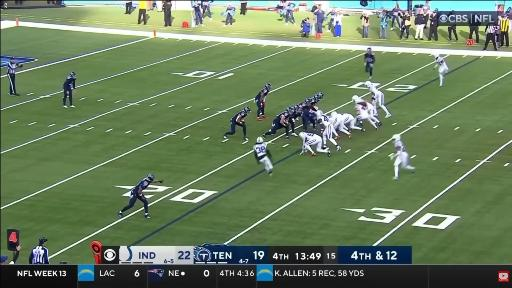Helmet: (286, 106, 295, 114), (392, 134, 401, 141), (294, 104, 301, 111), (147, 174, 154, 181), (314, 95, 321, 102), (352, 95, 359, 102), (304, 98, 311, 105), (316, 92, 323, 99), (316, 110, 322, 118), (317, 92, 324, 98), (256, 137, 263, 143), (265, 83, 271, 90), (331, 111, 338, 117), (365, 81, 371, 87), (70, 72, 76, 78), (366, 47, 372, 53), (244, 107, 250, 113), (299, 132, 306, 137), (299, 102, 306, 107), (316, 110, 323, 115), (310, 97, 316, 102), (434, 54, 439, 58)
Jersey: (131, 178, 151, 197), (369, 85, 383, 104), (303, 133, 321, 145), (255, 88, 269, 102), (436, 57, 448, 73), (254, 143, 266, 159), (231, 110, 247, 122), (274, 111, 289, 123), (356, 103, 368, 117), (317, 114, 331, 126), (337, 114, 353, 124), (63, 76, 75, 89), (395, 140, 405, 153), (436, 57, 447, 68), (365, 52, 375, 63), (356, 103, 367, 112), (290, 111, 301, 119)
Player: (118, 174, 162, 218), (262, 107, 294, 140), (391, 135, 414, 179), (317, 110, 341, 151), (365, 81, 391, 118), (353, 96, 381, 129), (331, 112, 364, 138), (224, 107, 250, 140), (254, 137, 273, 175), (300, 132, 330, 156), (255, 83, 271, 120), (302, 98, 317, 131), (63, 72, 76, 108), (434, 55, 448, 86), (289, 104, 302, 136), (364, 48, 375, 78), (309, 96, 318, 113), (314, 92, 324, 104)
